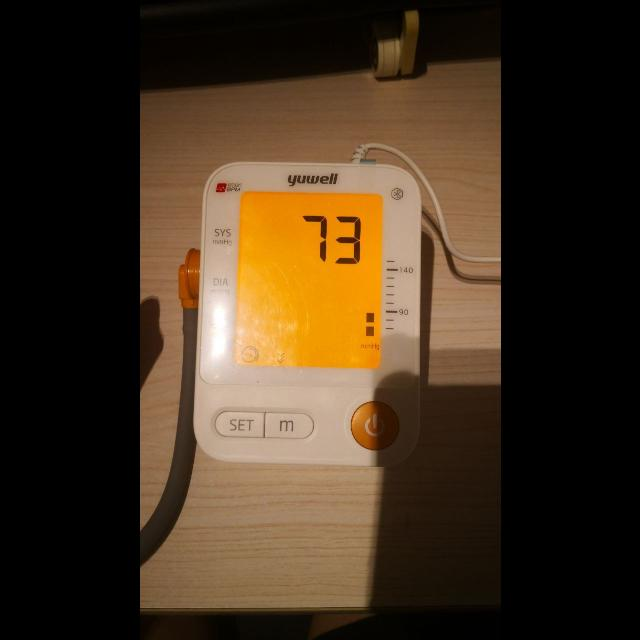Blood-Pressure-Monitor: (192, 161, 422, 467)
